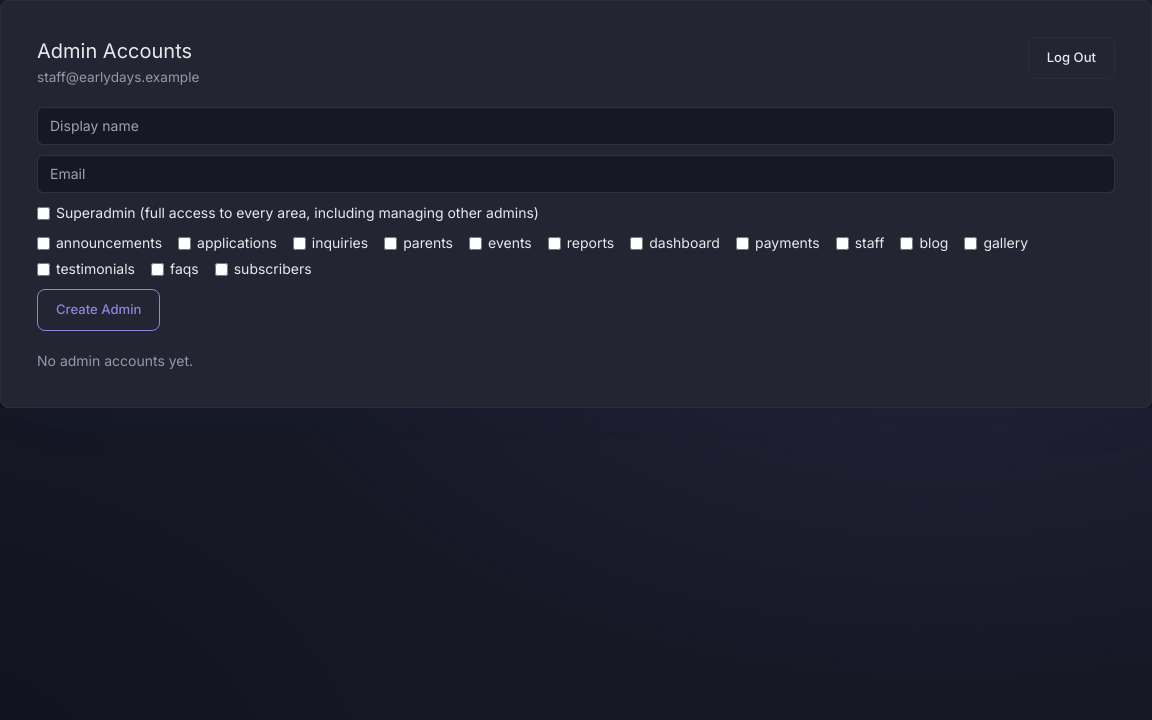
AdminAccessList › creates an admin account submitted through the form
expect the text "No admin accounts yet." is shown: met, box [37,352,193,369]
Type "New Admin" into the field with placeholder "Display name" at (576, 126), box [37,107,1115,145]
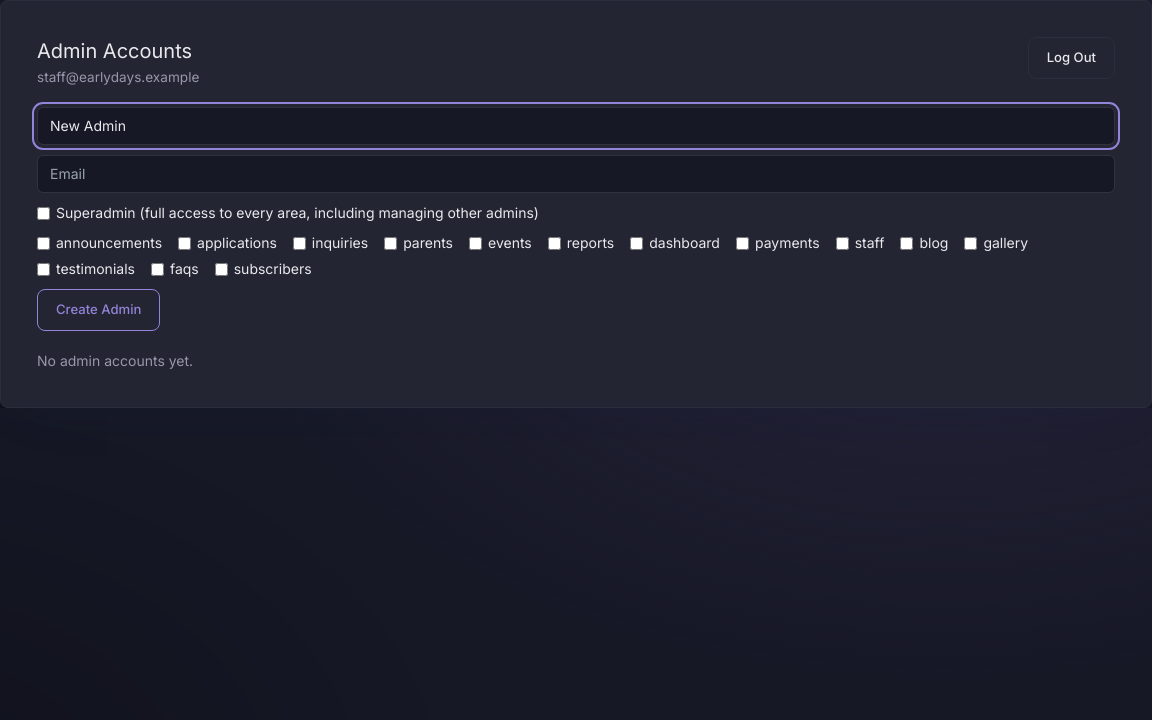
Type "new@example.com" into the field with placeholder "Email" at (576, 174), box [37,155,1115,193]
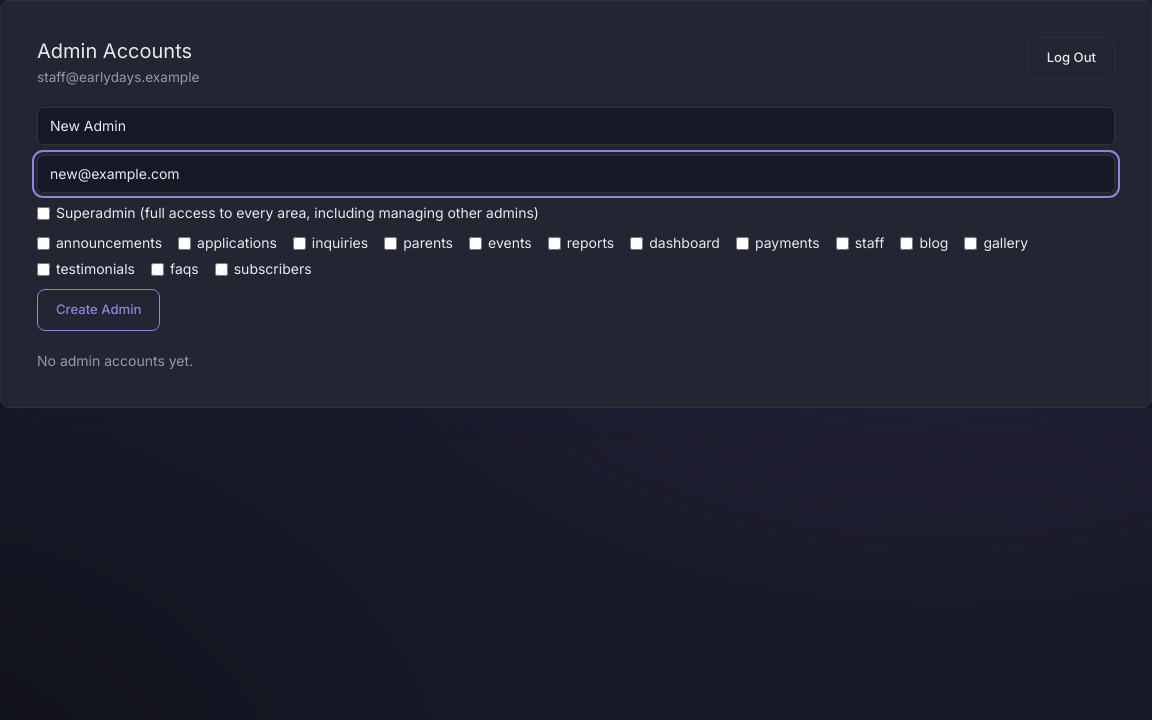
Click the button "Create Admin" at (99, 310), box [37,289,160,331]
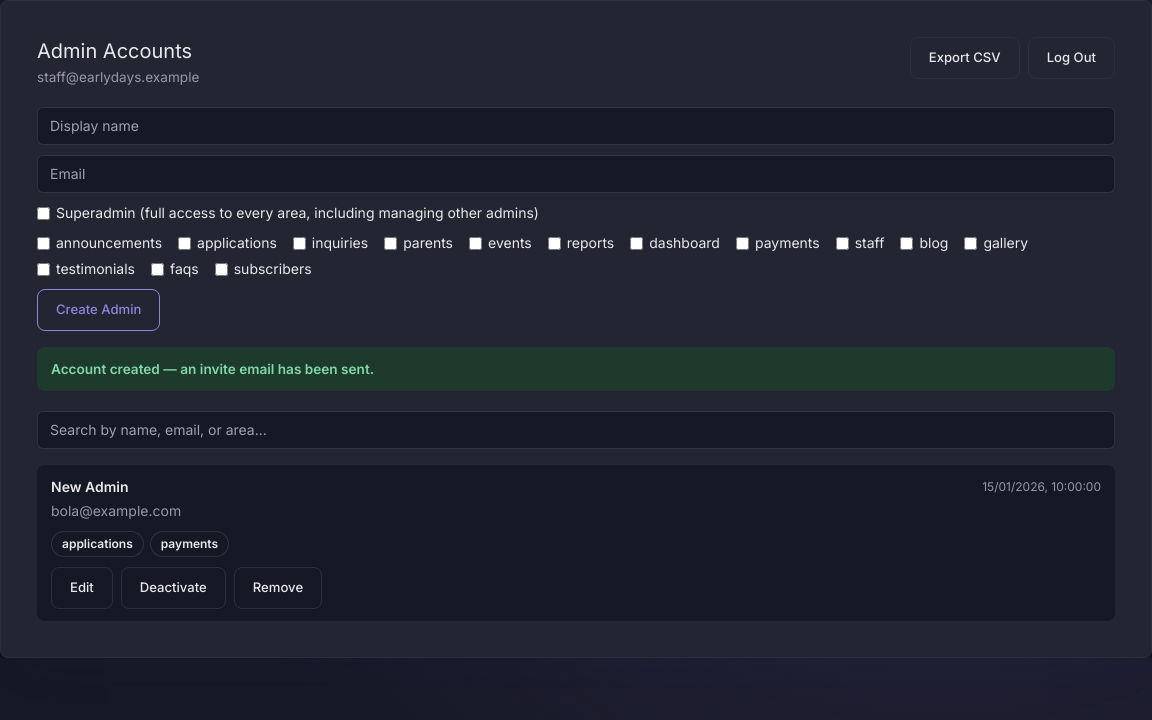
expect the text "New Admin" is shown: met, box [51,478,128,498]
expect the text "Account created — an invite email has been sent." is shown: met, box [37,347,1115,392]
